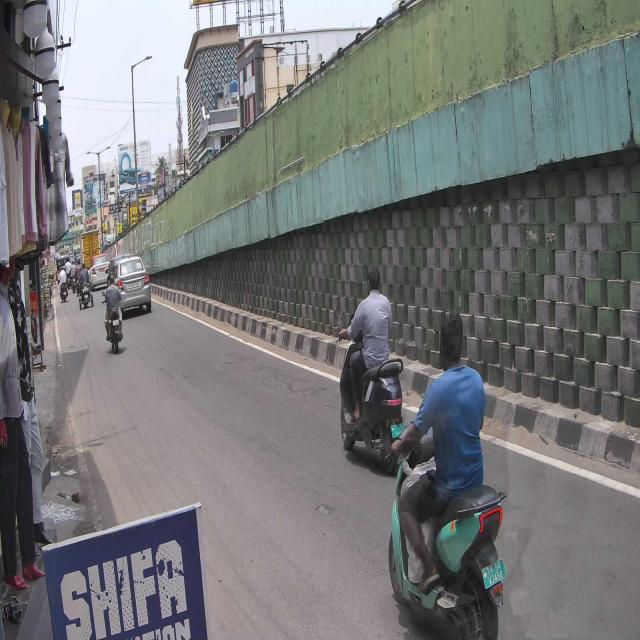single_rider: (408, 315, 507, 640), (337, 259, 404, 472)
